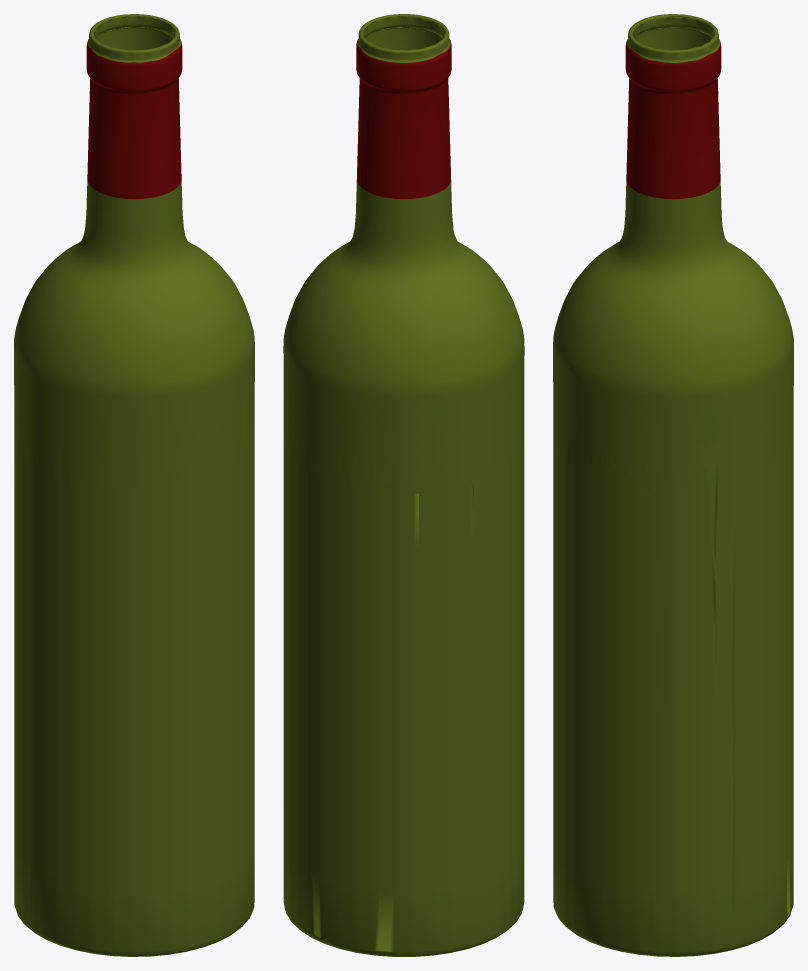
The model's file is wineBouteille_centeredSubdivided.dae.
The picture shows the model from 3 angles, left to right: view 1: azimuth 30°, elevation 25°; view 2: azimuth 150°, elevation 25°; view 3: azimuth 270°, elevation 25°; orthographic projection.
Visible parts, largest first — view 1: Group1; view 2: Group1; view 3: Group1.
Part boxes in pixels (<box>): Group1: <box>14,14,254,956</box>; Group1: <box>283,14,524,956</box>; Group1: <box>553,14,793,956</box>.
Bounding box in the file's own units: 0.0743 × 0.0743 × 0.2982.
